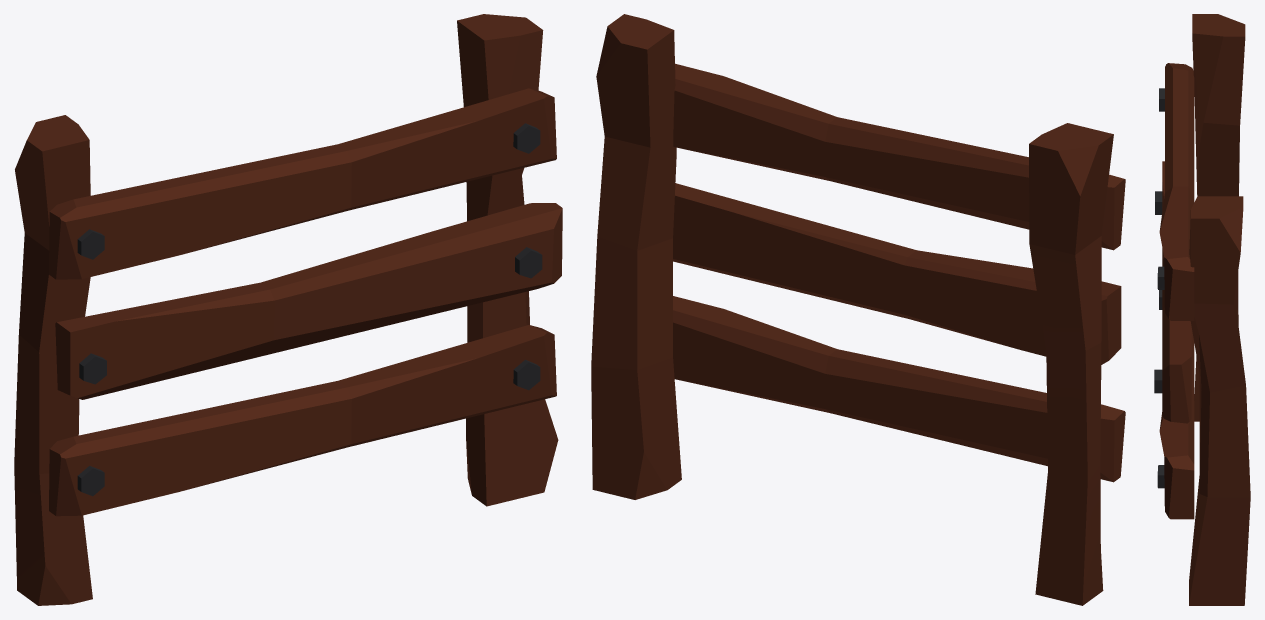
The model's file is Fence_2.fbx.
The picture shows the model from 3 angles, left to right: view 1: azimuth 30°, elevation 25°; view 2: azimuth 150°, elevation 25°; view 3: azimuth 270°, elevation 25°; orthographic projection. The views are drawn at different scales.
Parts seen in each view (by area): view 1: Fence_2; view 2: Fence_2; view 3: Fence_2.
Part boxes in pixels (x1,y1,x2,y2): Fence_2: (14,14,562,605); Fence_2: (591,14,1125,605); Fence_2: (1154,14,1250,605).
Bounding box in the file's own units: 44.77 × 38.12 × 8.61.
